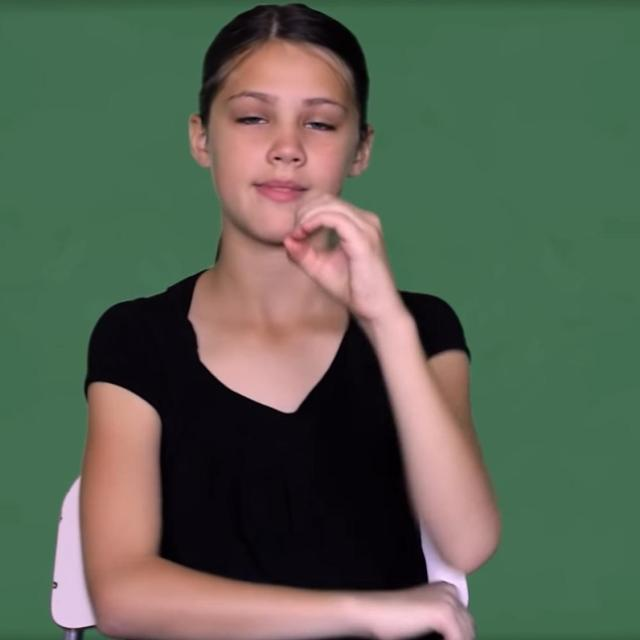N: (278, 187, 412, 320)
